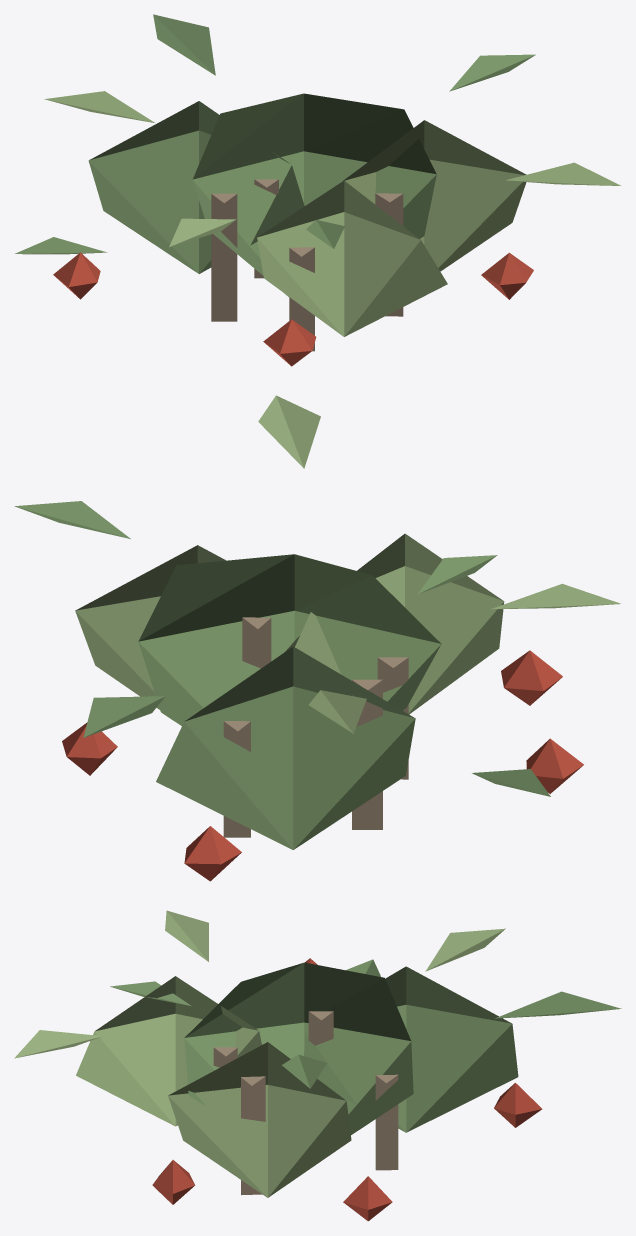
File: guan.aili@fruiting__summer.glb
3 views of the same model, one above another, from view 1: azimuth 30°, elevation 25°; view 2: azimuth 150°, elevation 25°; view 3: azimuth 270°, elevation 25° (orthographic). The views are drawn at different scales.
Parts seen in each view (by area): view 1: guan.aili@fruiting__summer; view 2: guan.aili@fruiting__summer; view 3: guan.aili@fruiting__summer.
Boxes of the visible parts, bbox=[...] form: guan.aili@fruiting__summer: bbox=[15, 14, 620, 366]; guan.aili@fruiting__summer: bbox=[14, 395, 620, 881]; guan.aili@fruiting__summer: bbox=[14, 910, 621, 1221].
Size of the model in its own units: 2.07 by 0.8506 by 2.32.
